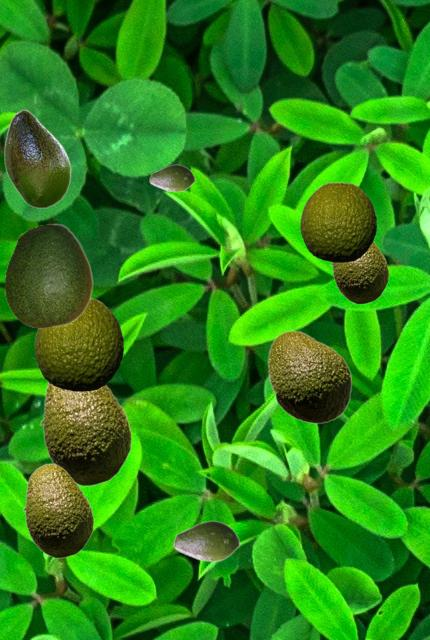avocado: (39, 382, 131, 485), (4, 223, 92, 327), (34, 297, 122, 390), (267, 330, 351, 423), (22, 463, 93, 557), (4, 109, 70, 207), (300, 182, 375, 261), (330, 241, 388, 303), (173, 520, 239, 561), (149, 164, 194, 191)
